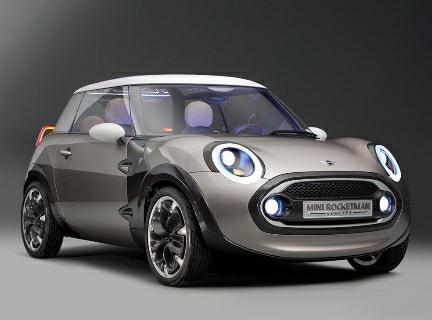MINI-ROCKETMAN: (10, 79, 419, 285)
